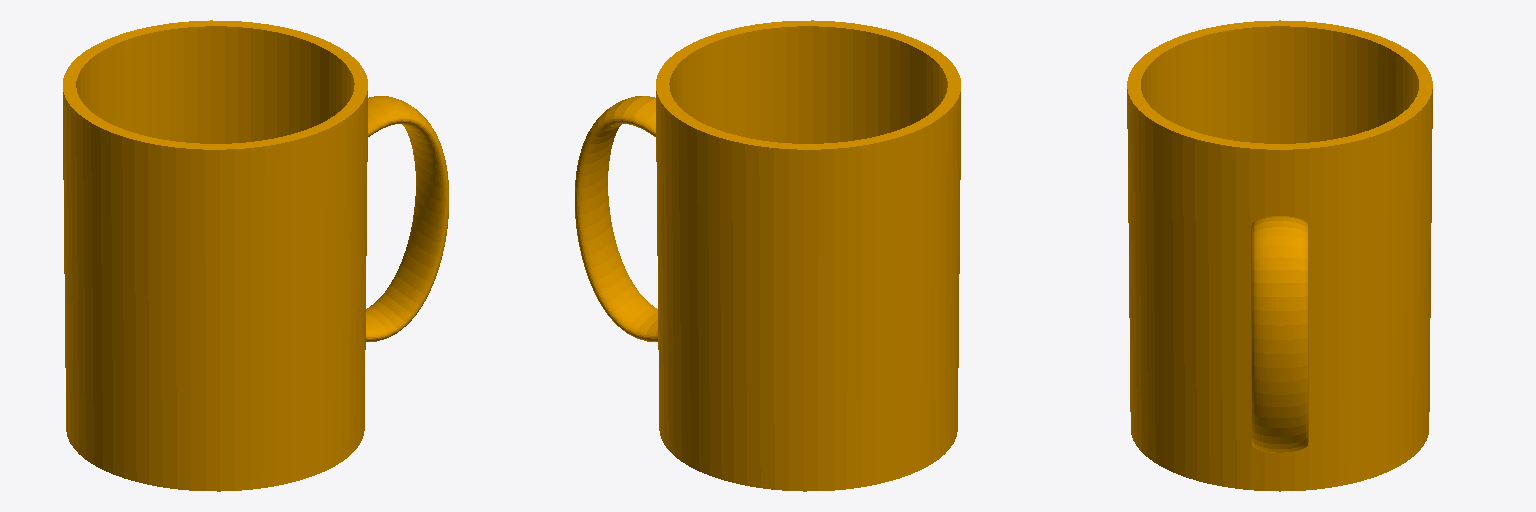
The robot description file, URDF, robot "intel_cup.urdf":
<?xml version="0.0" ?>
<robot name="intel_cup.urdf">
  <link name="baseLink">
    <contact>
      <lateral_friction value="1.0"/>
      <rolling_friction value="0.0"/>
      <contact_cfm value="0.0"/>
      <contact_erp value="1.0"/>
    </contact>
    <inertial>
      <origin rpy="0 0 0" xyz="0.0 0.02 0.0"/>
       <mass value=".1"/>
       <inertia ixx="1" ixy="0" ixz="0" iyy="1" iyz="0" izz="1"/>
    </inertial>
    <visual>
      <origin rpy="0 0 0" xyz="0 0 0"/>
      <geometry>
	 	<mesh filename="intel_cup.obj"/>
      </geometry>
    </visual>
    <collision>
      <origin rpy="0 0 0" xyz="0 0 0"/>
      <geometry>
	 	<mesh filename="intel_cup.obj"/>
      </geometry>
    </collision>
  </link>
</robot>

--- What the picture shows (computed from the rendered views, not written in the file) ---
3 views of the same robot in one strip: view 1: azimuth 30°, elevation 25°; view 2: azimuth 150°, elevation 25°; view 3: azimuth 270°, elevation 25° (orthographic).
Model intel_cup.urdf with 1 links and 0 joints (none), rooted at baseLink, posed all joints at 0.
Visible links, largest first — view 1: baseLink; view 2: baseLink; view 3: baseLink.
Link boxes in pixels (<box>): baseLink: <box>63,20,448,491</box>; baseLink: <box>575,20,960,491</box>; baseLink: <box>1127,20,1432,491</box>.
Bounding box of the posed robot: 0.1137 × 0.084 × 0.104 m (x, y, z).
1 mesh visuals loaded from 1 distinct referenced files (1 OBJ).